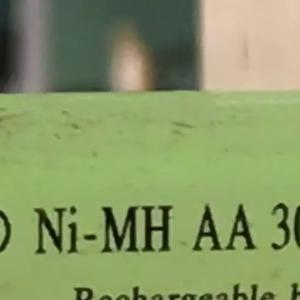keyword: (24, 195, 176, 264)
